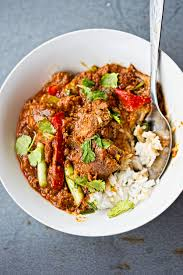rendang: (12, 45, 183, 225)
